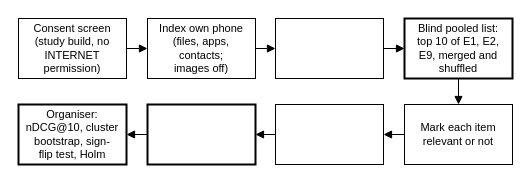
This 530x182 diagram has some shape labels left out. Each missing label, with the box of its shape:
Export one JSON file: numbers and categories only: (146, 103, 256, 165)
SUS questionnaire (10 items): (274, 104, 384, 164)
Type 10 to 15 real searches; tag item kind and style: (274, 18, 384, 78)
